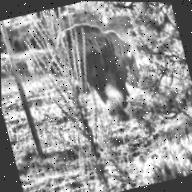boar: (52, 12, 148, 117)
